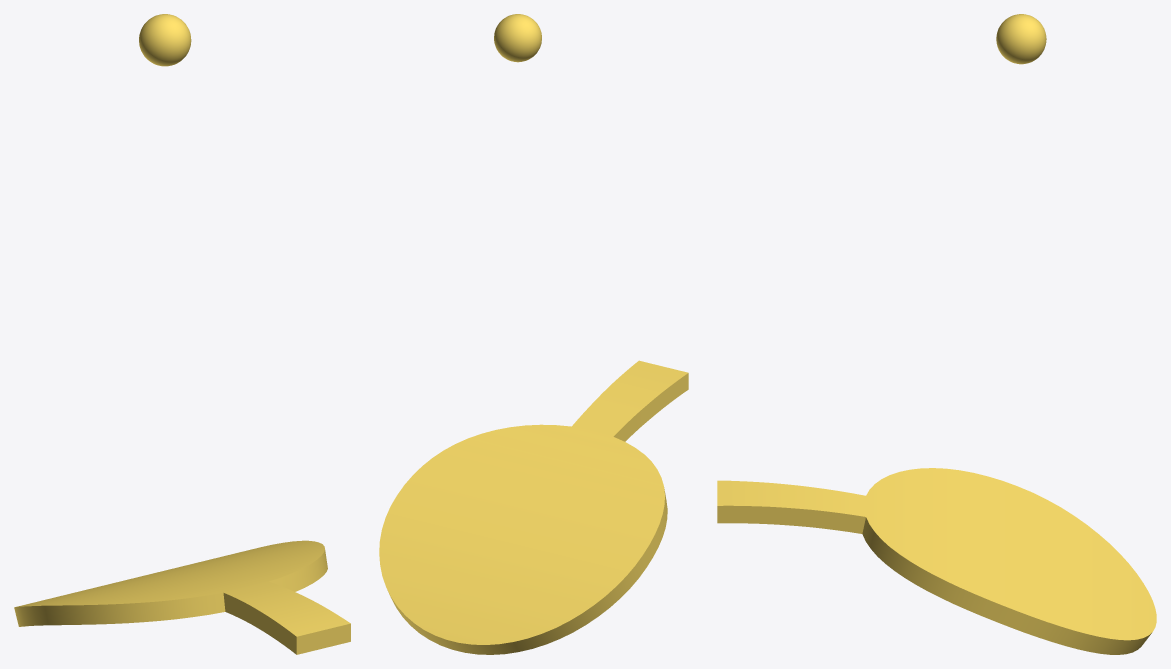
Rendered from Table_Tennis_Paddle.glb.
3 views of the same model, side by side, from view 1: azimuth 30°, elevation 25°; view 2: azimuth 150°, elevation 25°; view 3: azimuth 270°, elevation 25° (orthographic). The views are drawn at different scales.
Visible parts, largest first — view 1: Paddle_0, Paddle_1, Paddle_2, Sphere; view 2: Paddle_1, Paddle_0, Paddle_2, Sphere; view 3: Paddle_1, Paddle_0, Paddle_2, Sphere.
Part boxes in pixels (x1,y1,x2,y2): Paddle_0: (173, 568, 350, 654); Paddle_1: (15, 540, 324, 607); Paddle_2: (14, 550, 327, 626); Sphere: (139, 14, 191, 66); Paddle_1: (379, 425, 664, 644); Paddle_0: (526, 360, 688, 454); Paddle_2: (387, 489, 667, 654); Sphere: (494, 14, 541, 62); Paddle_1: (881, 468, 1156, 640); Paddle_0: (717, 479, 881, 556); Paddle_2: (877, 540, 1151, 654); Sphere: (996, 14, 1046, 64).
Size of the model in its own units: 2 by 4.6 by 2.97.
